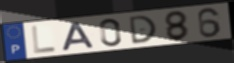0: (98, 17, 123, 47)
6: (197, 6, 222, 39)
8: (163, 10, 192, 42)
A: (61, 21, 97, 52)
D: (128, 14, 159, 45)
L: (30, 24, 58, 55)
